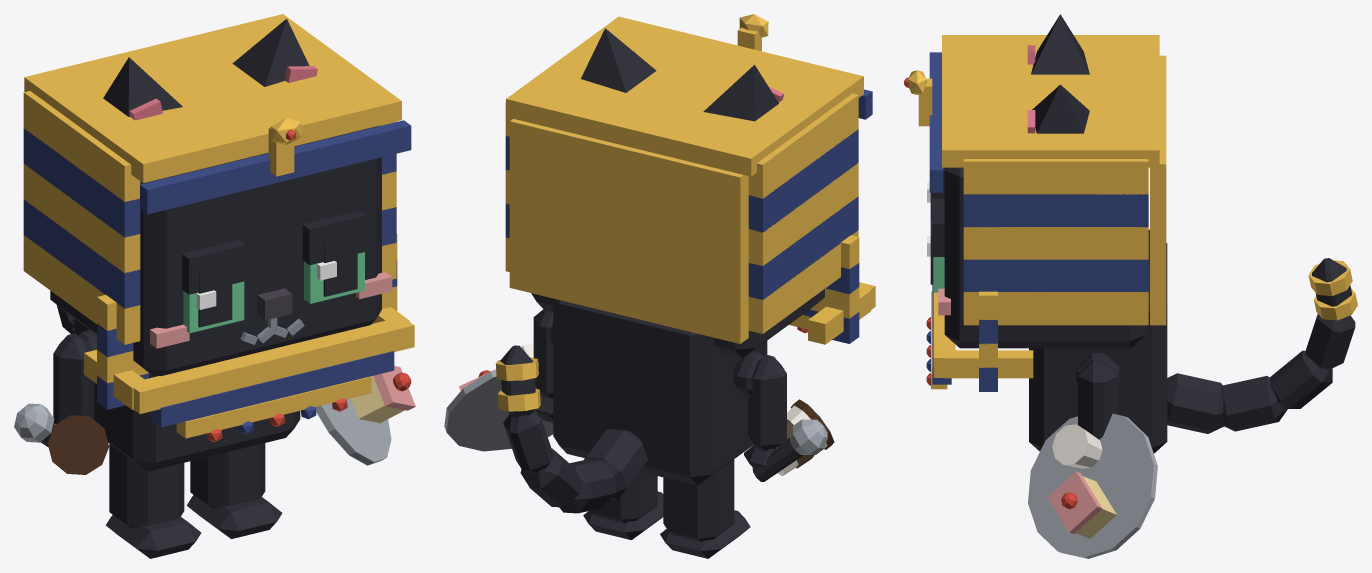
The model's file is CatCafe_Cat_Pharaoh_Work.fbx.
The picture shows the model from 3 angles, left to right: view 1: azimuth 30°, elevation 25°; view 2: azimuth 150°, elevation 25°; view 3: azimuth 270°, elevation 25°; orthographic projection. The views are drawn at different scales.
Visible parts, largest first — view 1: CatCafe_Cat_Pharaoh_Work_Prop, CatCafe_Cat_Pharaoh_Work_Head, CatCafe_Cat_Pharaoh_Work_Prop2, CatCafe_Cat_Pharaoh_Work_LegB2, CatCafe_Cat_Pharaoh_Work_Body, CatCafe_Cat_Pharaoh_Work_LegB1, CatCafe_Cat_Pharaoh_Work_Eye1, CatCafe_Cat_Pharaoh_Work_Eye2, CatCafe_Cat_Pharaoh_Work_Held_Waiter, CatCafe_Cat_Pharaoh_Work_EarL, CatCafe_Cat_Pharaoh_Work_LegF2, CatCafe_Cat_Pharaoh_Work_Held_Barista (+2 smaller); view 2: CatCafe_Cat_Pharaoh_Work_Prop, CatCafe_Cat_Pharaoh_Work_Body, CatCafe_Cat_Pharaoh_Work_Tail, CatCafe_Cat_Pharaoh_Work_LegB2, CatCafe_Cat_Pharaoh_Work_Held_Waiter, CatCafe_Cat_Pharaoh_Work_LegF2, CatCafe_Cat_Pharaoh_Work_LegB1, CatCafe_Cat_Pharaoh_Work_EarL, CatCafe_Cat_Pharaoh_Work_EarR, CatCafe_Cat_Pharaoh_Work_Held_Entertainer, CatCafe_Cat_Pharaoh_Work_LegF1, CatCafe_Cat_Pharaoh_Work_Prop2 (+3 smaller); view 3: CatCafe_Cat_Pharaoh_Work_Prop, CatCafe_Cat_Pharaoh_Work_Held_Waiter, CatCafe_Cat_Pharaoh_Work_Tail, CatCafe_Cat_Pharaoh_Work_Body, CatCafe_Cat_Pharaoh_Work_Head, CatCafe_Cat_Pharaoh_Work_Prop2, CatCafe_Cat_Pharaoh_Work_LegF1, CatCafe_Cat_Pharaoh_Work_EarR, CatCafe_Cat_Pharaoh_Work_EarL, CatCafe_Cat_Pharaoh_Work_Tail_Cuffs, CatCafe_Cat_Pharaoh_Work_Eye1.
Boxes of the visible parts, box(x1,y1,x2,y2) form: CatCafe_Cat_Pharaoh_Work_Prop: box(23, 14, 411, 409); CatCafe_Cat_Pharaoh_Work_Head: box(50, 126, 392, 376); CatCafe_Cat_Pharaoh_Work_Prop2: box(84, 307, 414, 442); CatCafe_Cat_Pharaoh_Work_LegB2: box(106, 444, 201, 558); CatCafe_Cat_Pharaoh_Work_Body: box(74, 318, 300, 471); CatCafe_Cat_Pharaoh_Work_LegB1: box(187, 443, 282, 538); CatCafe_Cat_Pharaoh_Work_Eye1: box(302, 210, 367, 303); CatCafe_Cat_Pharaoh_Work_Eye2: box(182, 240, 246, 333); CatCafe_Cat_Pharaoh_Work_Held_Waiter: box(315, 366, 415, 465); CatCafe_Cat_Pharaoh_Work_EarL: box(232, 18, 317, 86); CatCafe_Cat_Pharaoh_Work_LegF2: box(53, 333, 94, 424); CatCafe_Cat_Pharaoh_Work_Held_Barista: box(47, 415, 108, 474); CatCafe_Cat_Pharaoh_Work_Prop: box(505, 14, 872, 343); CatCafe_Cat_Pharaoh_Work_Body: box(550, 298, 767, 485); CatCafe_Cat_Pharaoh_Work_Tail: box(500, 345, 647, 513); CatCafe_Cat_Pharaoh_Work_LegB2: box(660, 459, 750, 558); CatCafe_Cat_Pharaoh_Work_Held_Waiter: box(444, 342, 553, 451); CatCafe_Cat_Pharaoh_Work_LegF2: box(744, 355, 786, 468); CatCafe_Cat_Pharaoh_Work_LegB1: box(583, 471, 663, 539); CatCafe_Cat_Pharaoh_Work_EarL: box(581, 28, 656, 92); CatCafe_Cat_Pharaoh_Work_EarR: box(703, 64, 783, 121); CatCafe_Cat_Pharaoh_Work_Held_Entertainer: box(752, 419, 827, 481); CatCafe_Cat_Pharaoh_Work_LegF1: box(533, 309, 553, 422); CatCafe_Cat_Pharaoh_Work_Prop2: box(789, 282, 875, 344); CatCafe_Cat_Pharaoh_Work_Prop: box(904, 35, 1166, 391); CatCafe_Cat_Pharaoh_Work_Held_Waiter: box(1028, 413, 1157, 558); CatCafe_Cat_Pharaoh_Work_Tail: box(1167, 258, 1355, 433); CatCafe_Cat_Pharaoh_Work_Body: box(1029, 229, 1167, 453); CatCafe_Cat_Pharaoh_Work_Head: box(938, 167, 1145, 348); CatCafe_Cat_Pharaoh_Work_Prop2: box(926, 284, 1033, 389); CatCafe_Cat_Pharaoh_Work_LegF1: box(1078, 359, 1118, 439); CatCafe_Cat_Pharaoh_Work_EarR: box(1027, 14, 1089, 74); CatCafe_Cat_Pharaoh_Work_EarL: box(1027, 84, 1089, 133); CatCafe_Cat_Pharaoh_Work_Tail_Cuffs: box(1308, 260, 1357, 320); CatCafe_Cat_Pharaoh_Work_Eye1: box(927, 198, 944, 292).
Bounding box in the file's own units: 1.53 × 1.93 × 1.71.
Materials: 1 (1 with a texture image).
